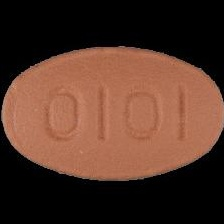64725-0010: (0, 0, 224, 224)
